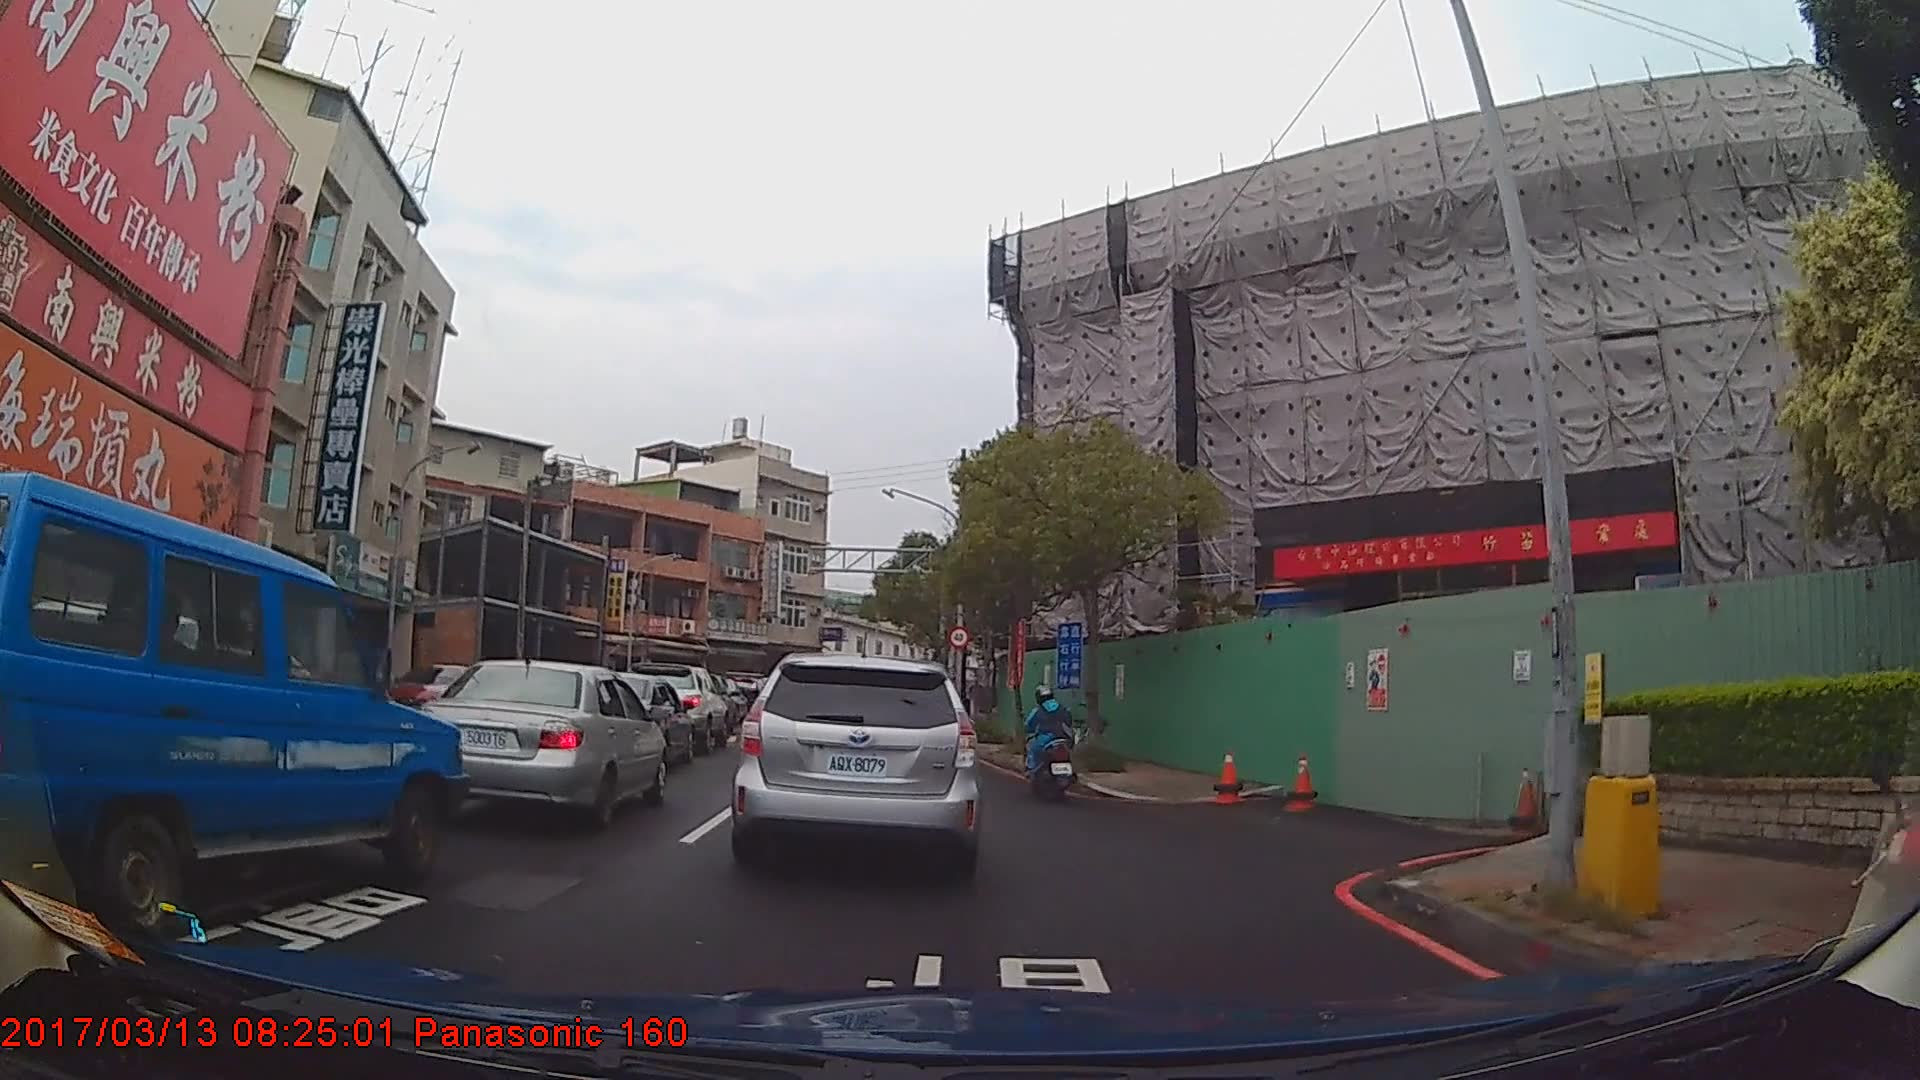rider: (1023, 686, 1078, 802)
vehicle: (0, 474, 466, 930), (731, 650, 987, 869), (414, 658, 671, 830), (556, 668, 695, 764), (623, 661, 728, 752)
